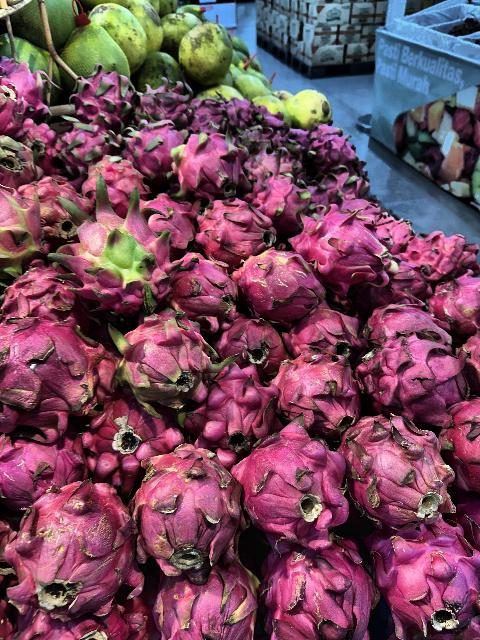buah-naga-belum-matang: (44, 180, 164, 308), (102, 296, 228, 408), (239, 245, 319, 322), (1, 177, 48, 275)
buah-naga-matang: (4, 462, 142, 620), (0, 310, 108, 440), (337, 411, 455, 529), (132, 454, 243, 566), (232, 434, 346, 542), (354, 326, 470, 422), (0, 311, 102, 419), (259, 544, 375, 634), (267, 343, 361, 441), (388, 527, 480, 625), (188, 358, 278, 454), (147, 564, 258, 636), (0, 410, 82, 500), (87, 395, 185, 469), (292, 214, 386, 290), (158, 250, 244, 320), (6, 249, 82, 323), (171, 132, 253, 198), (197, 194, 273, 252), (117, 116, 192, 172), (68, 74, 140, 128), (0, 58, 54, 130), (42, 120, 108, 173), (254, 173, 318, 227), (140, 198, 202, 246), (133, 85, 200, 127), (406, 235, 464, 282), (432, 276, 480, 332)
